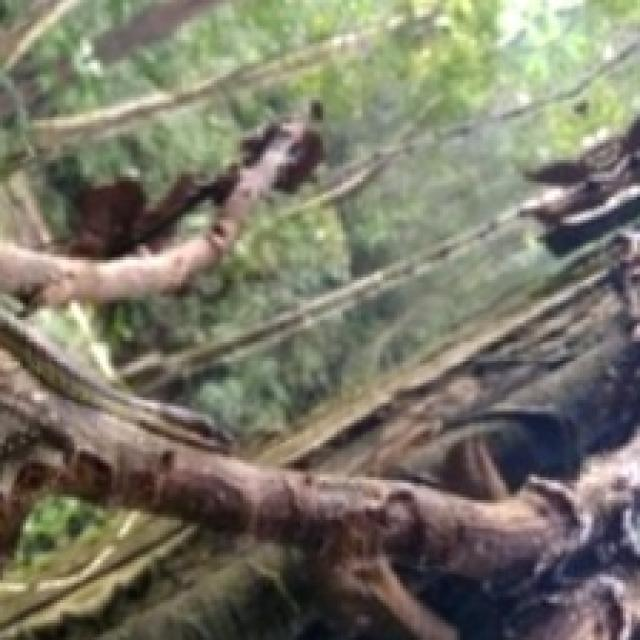paradise tree snake: (0, 120, 320, 303)
